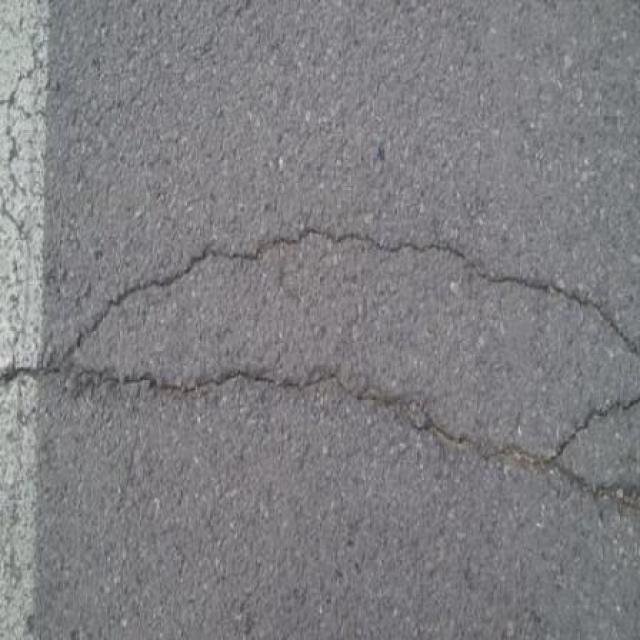Crack: (0, 228, 640, 512)
